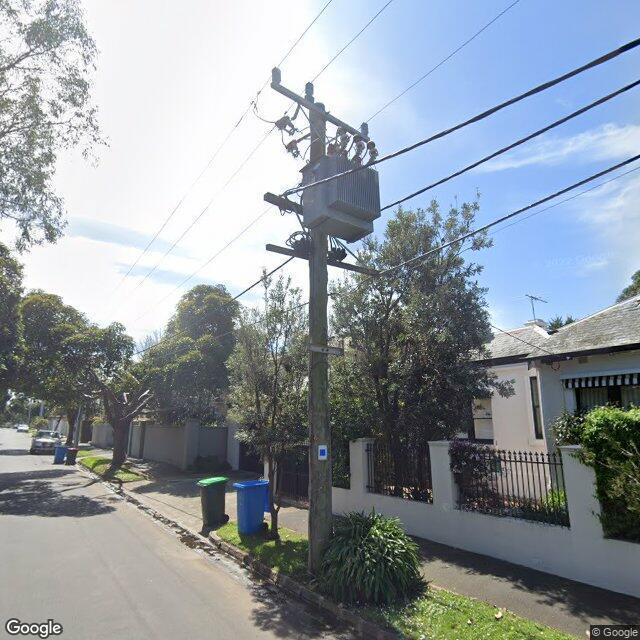HV-transmission: (270, 67, 370, 141)
crossarm: (272, 83, 371, 142), (265, 243, 380, 276), (263, 191, 304, 214)
timber-pole: (307, 100, 332, 582)
transformer: (300, 137, 382, 243)
